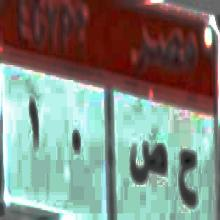0: (24, 89, 48, 157), (70, 116, 84, 165)
7aa: (176, 143, 200, 218)
saad: (122, 134, 171, 190)
